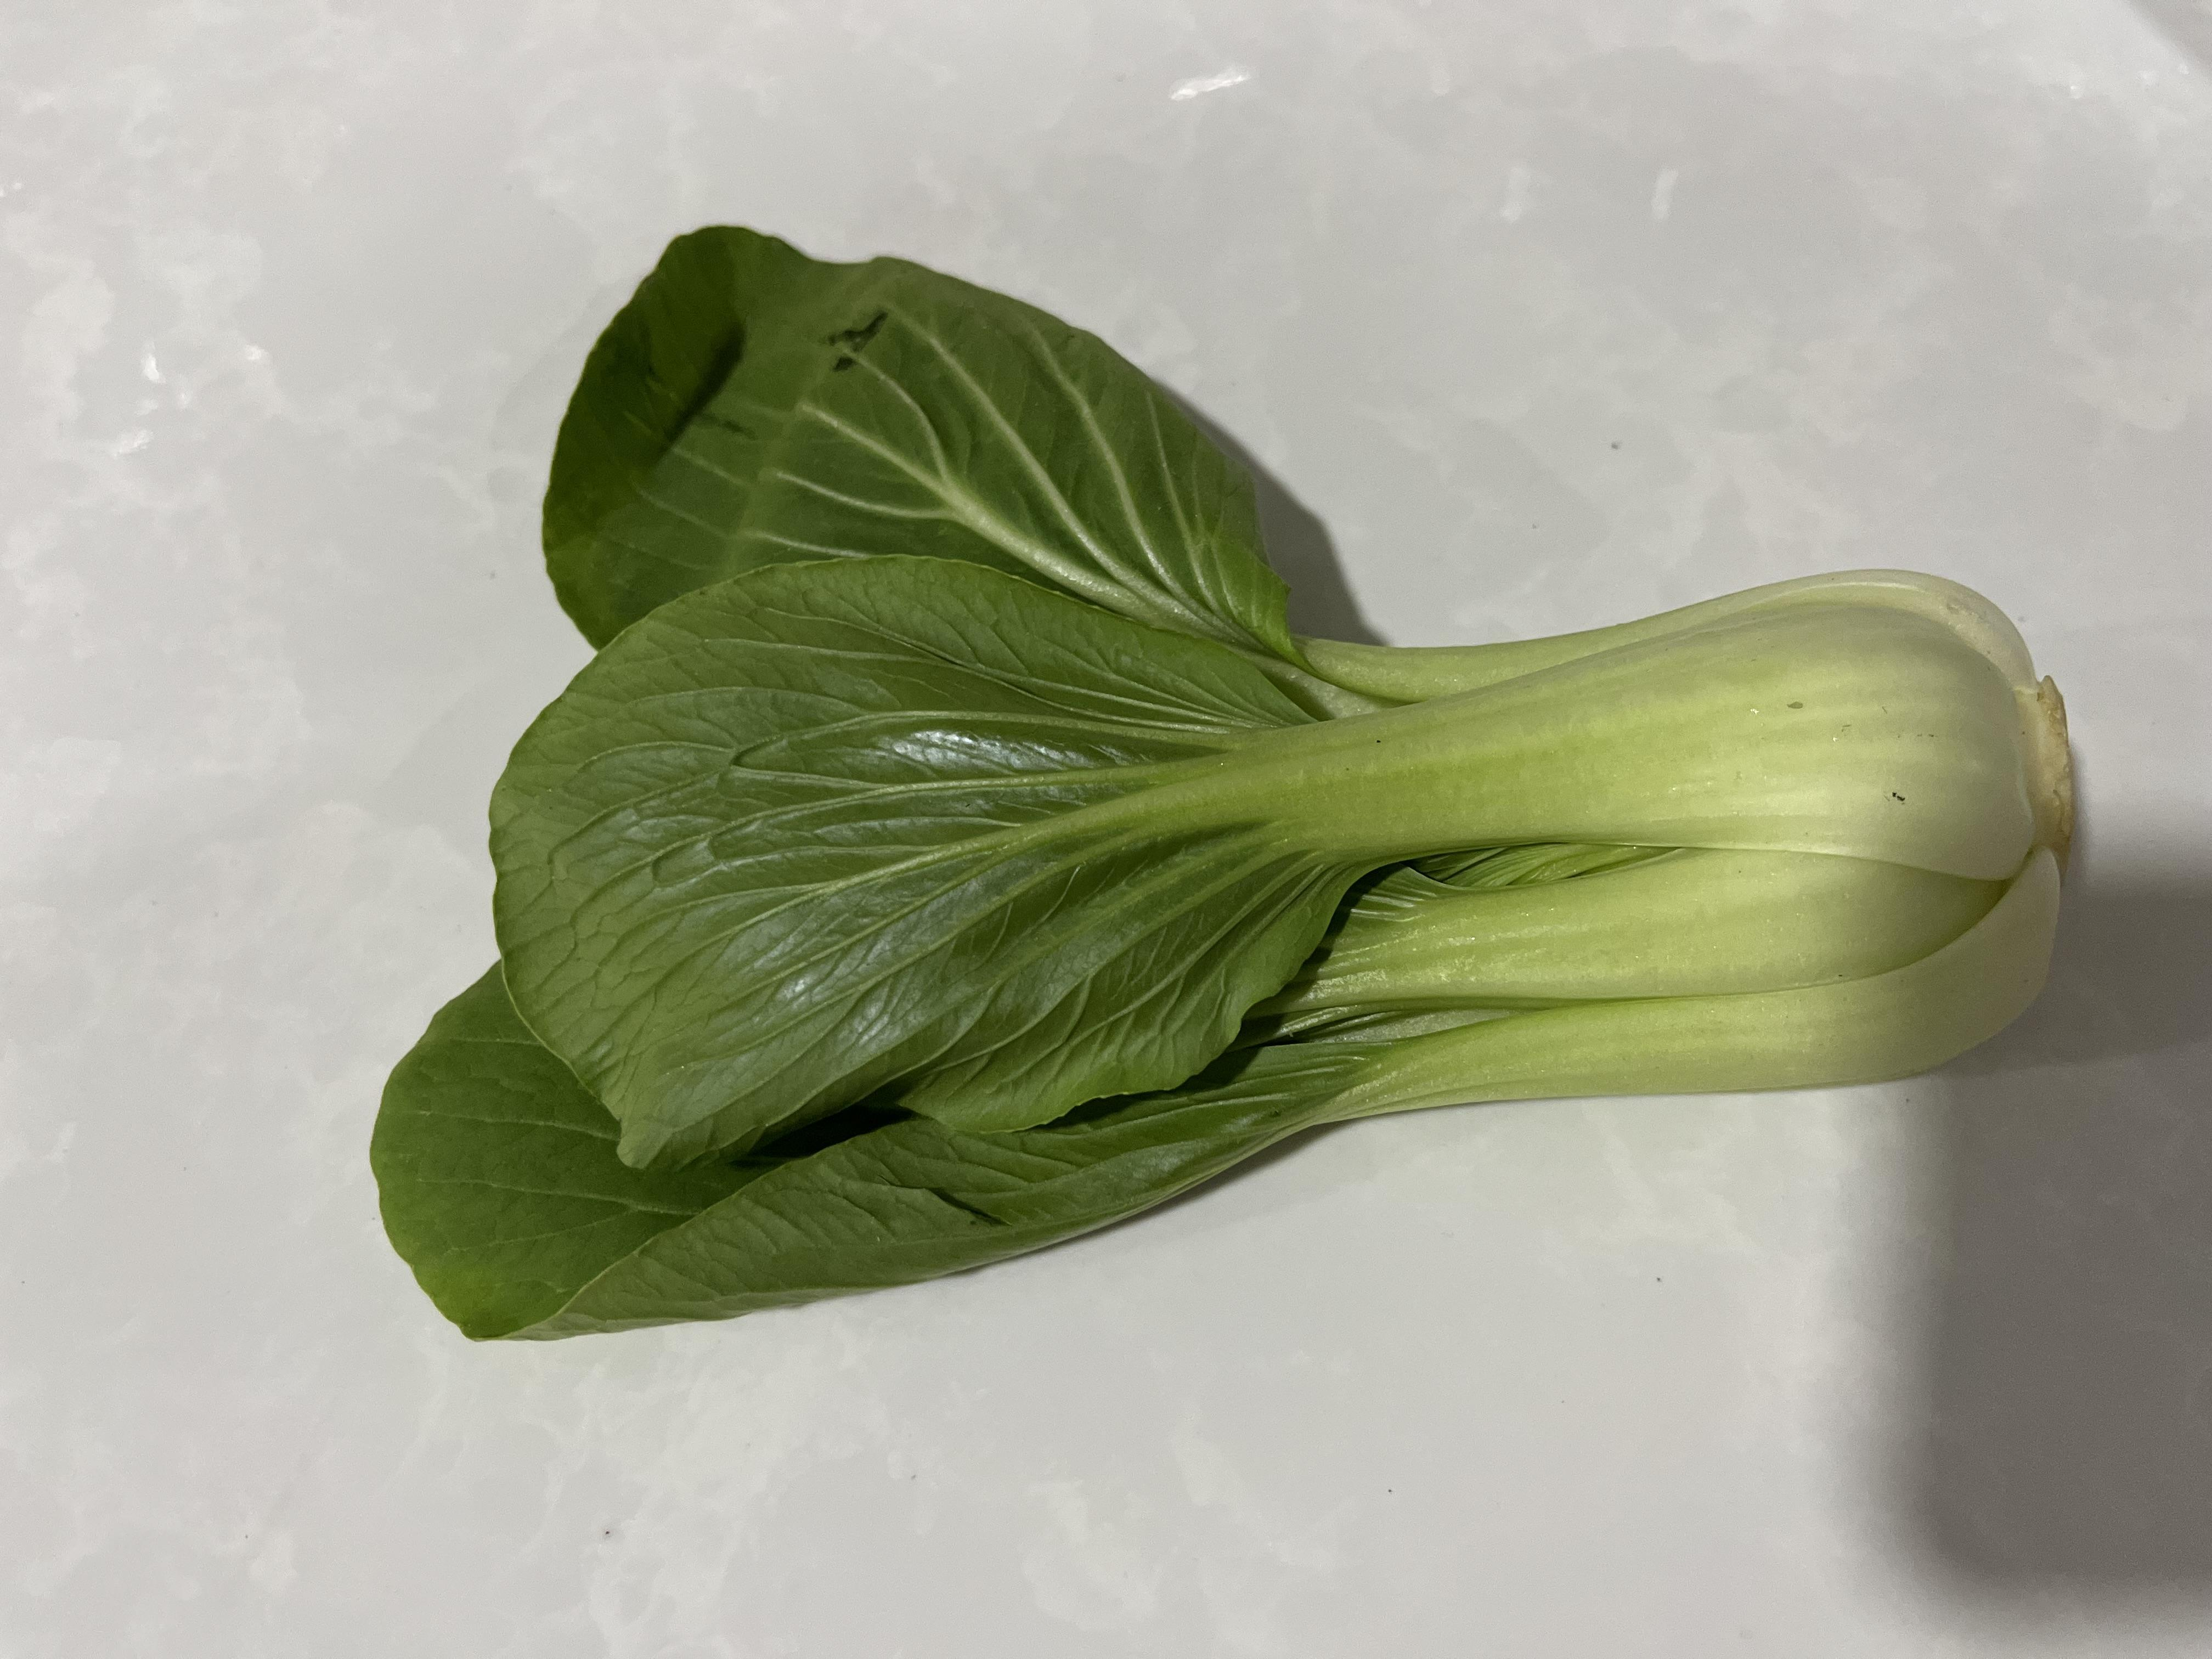Healthy-Pechay: (416, 230, 1827, 1448)
